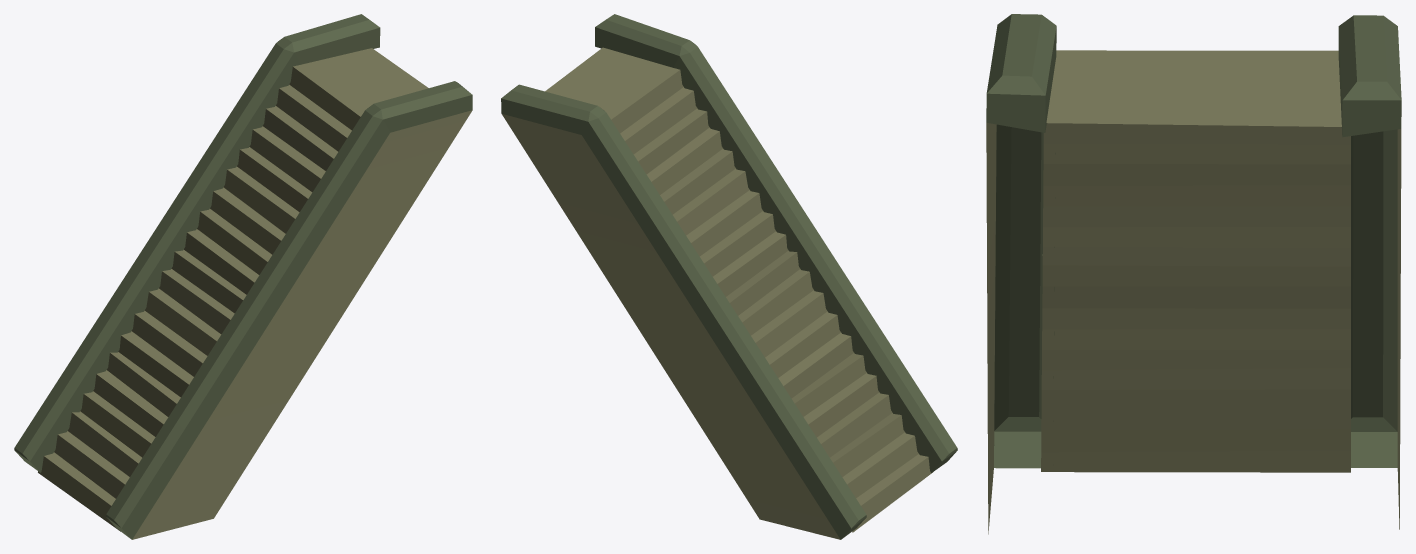
File: Ladder3.fbx
3 renders of one model, left to right at view 1: azimuth 30°, elevation 25°; view 2: azimuth 150°, elevation 25°; view 3: azimuth 270°, elevation 25°, orthographic. The views are drawn at different scales.
Visible parts, largest first — view 1: polySurface542; view 2: polySurface542; view 3: polySurface542.
Boxes of the visible parts, <box> form: polySurface542: <box>14,14,472,539</box>; polySurface542: <box>501,14,957,539</box>; polySurface542: <box>986,14,1401,534</box>.
Size of the model in its own units: 971 by 973 by 522.
